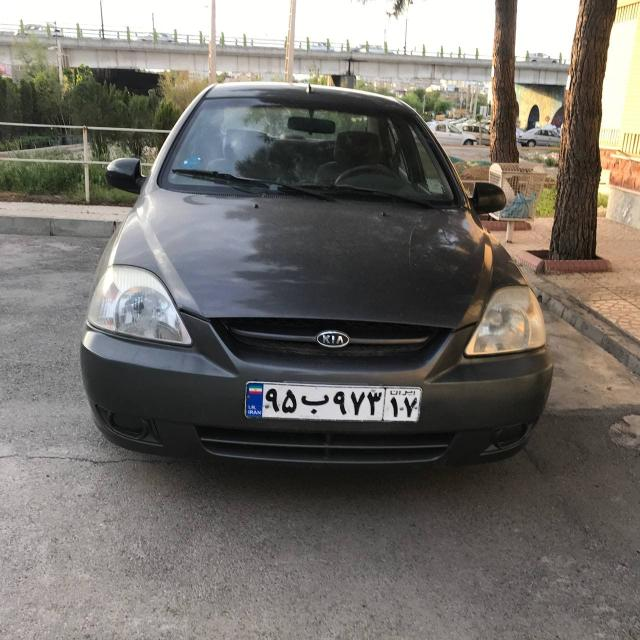Plates: (245, 383, 421, 424)
